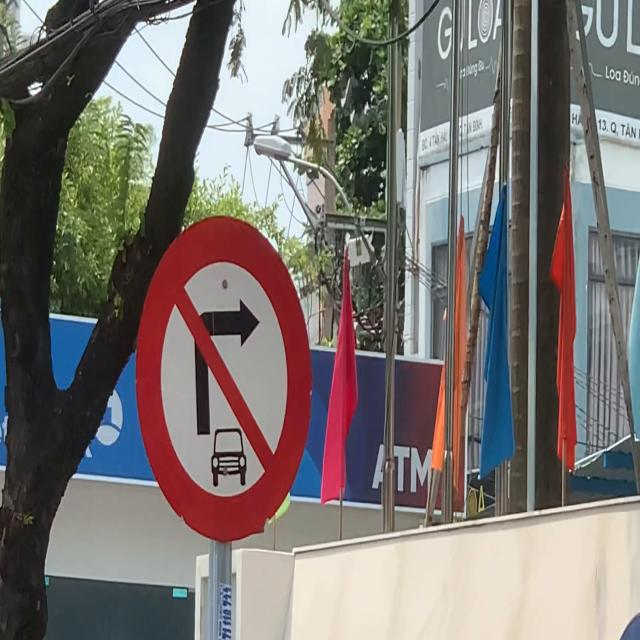Cam re phai: (134, 217, 308, 542)
